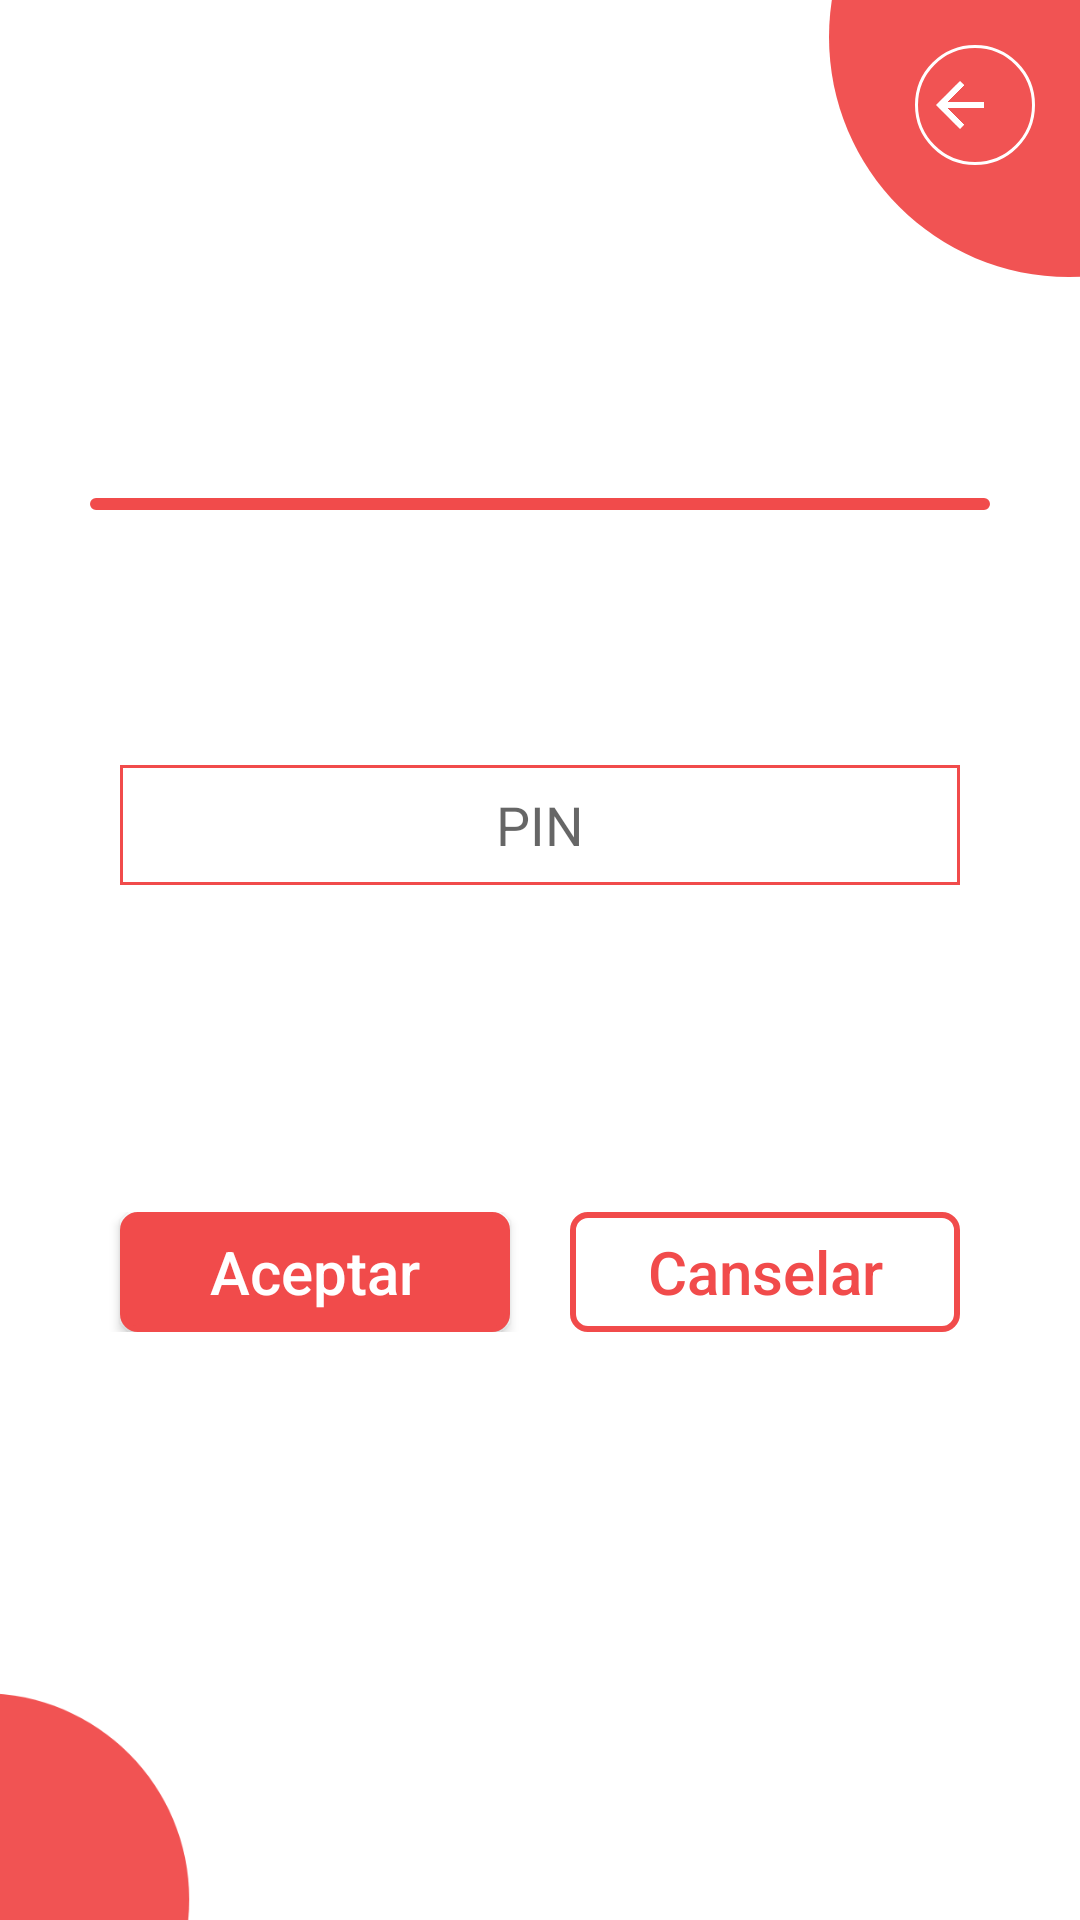

Screen size 1080w x 1920h. Icon name, then its box in pixels as box=[x1, y1, x2, y2]:
back: box=[915, 45, 1035, 165]
